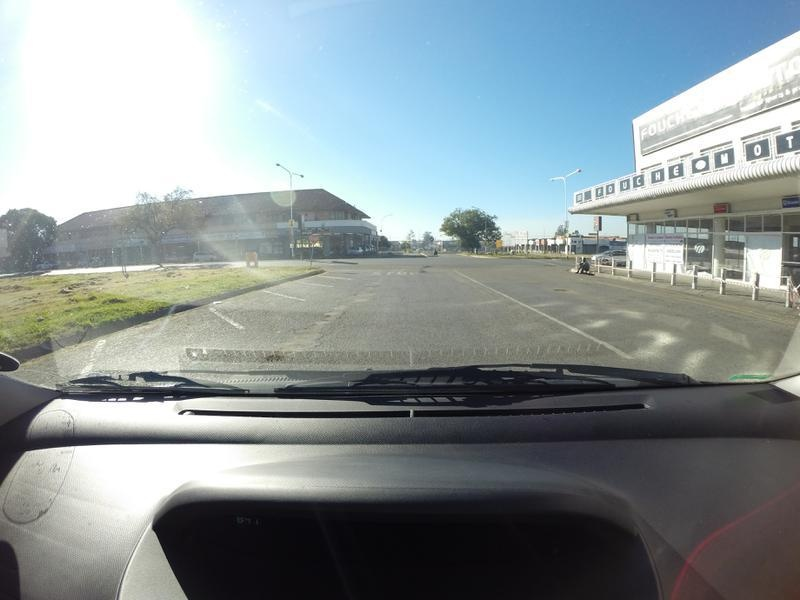pothole: (263, 350, 295, 363), (552, 286, 574, 293), (324, 310, 335, 320), (424, 263, 434, 267), (419, 269, 425, 273)
